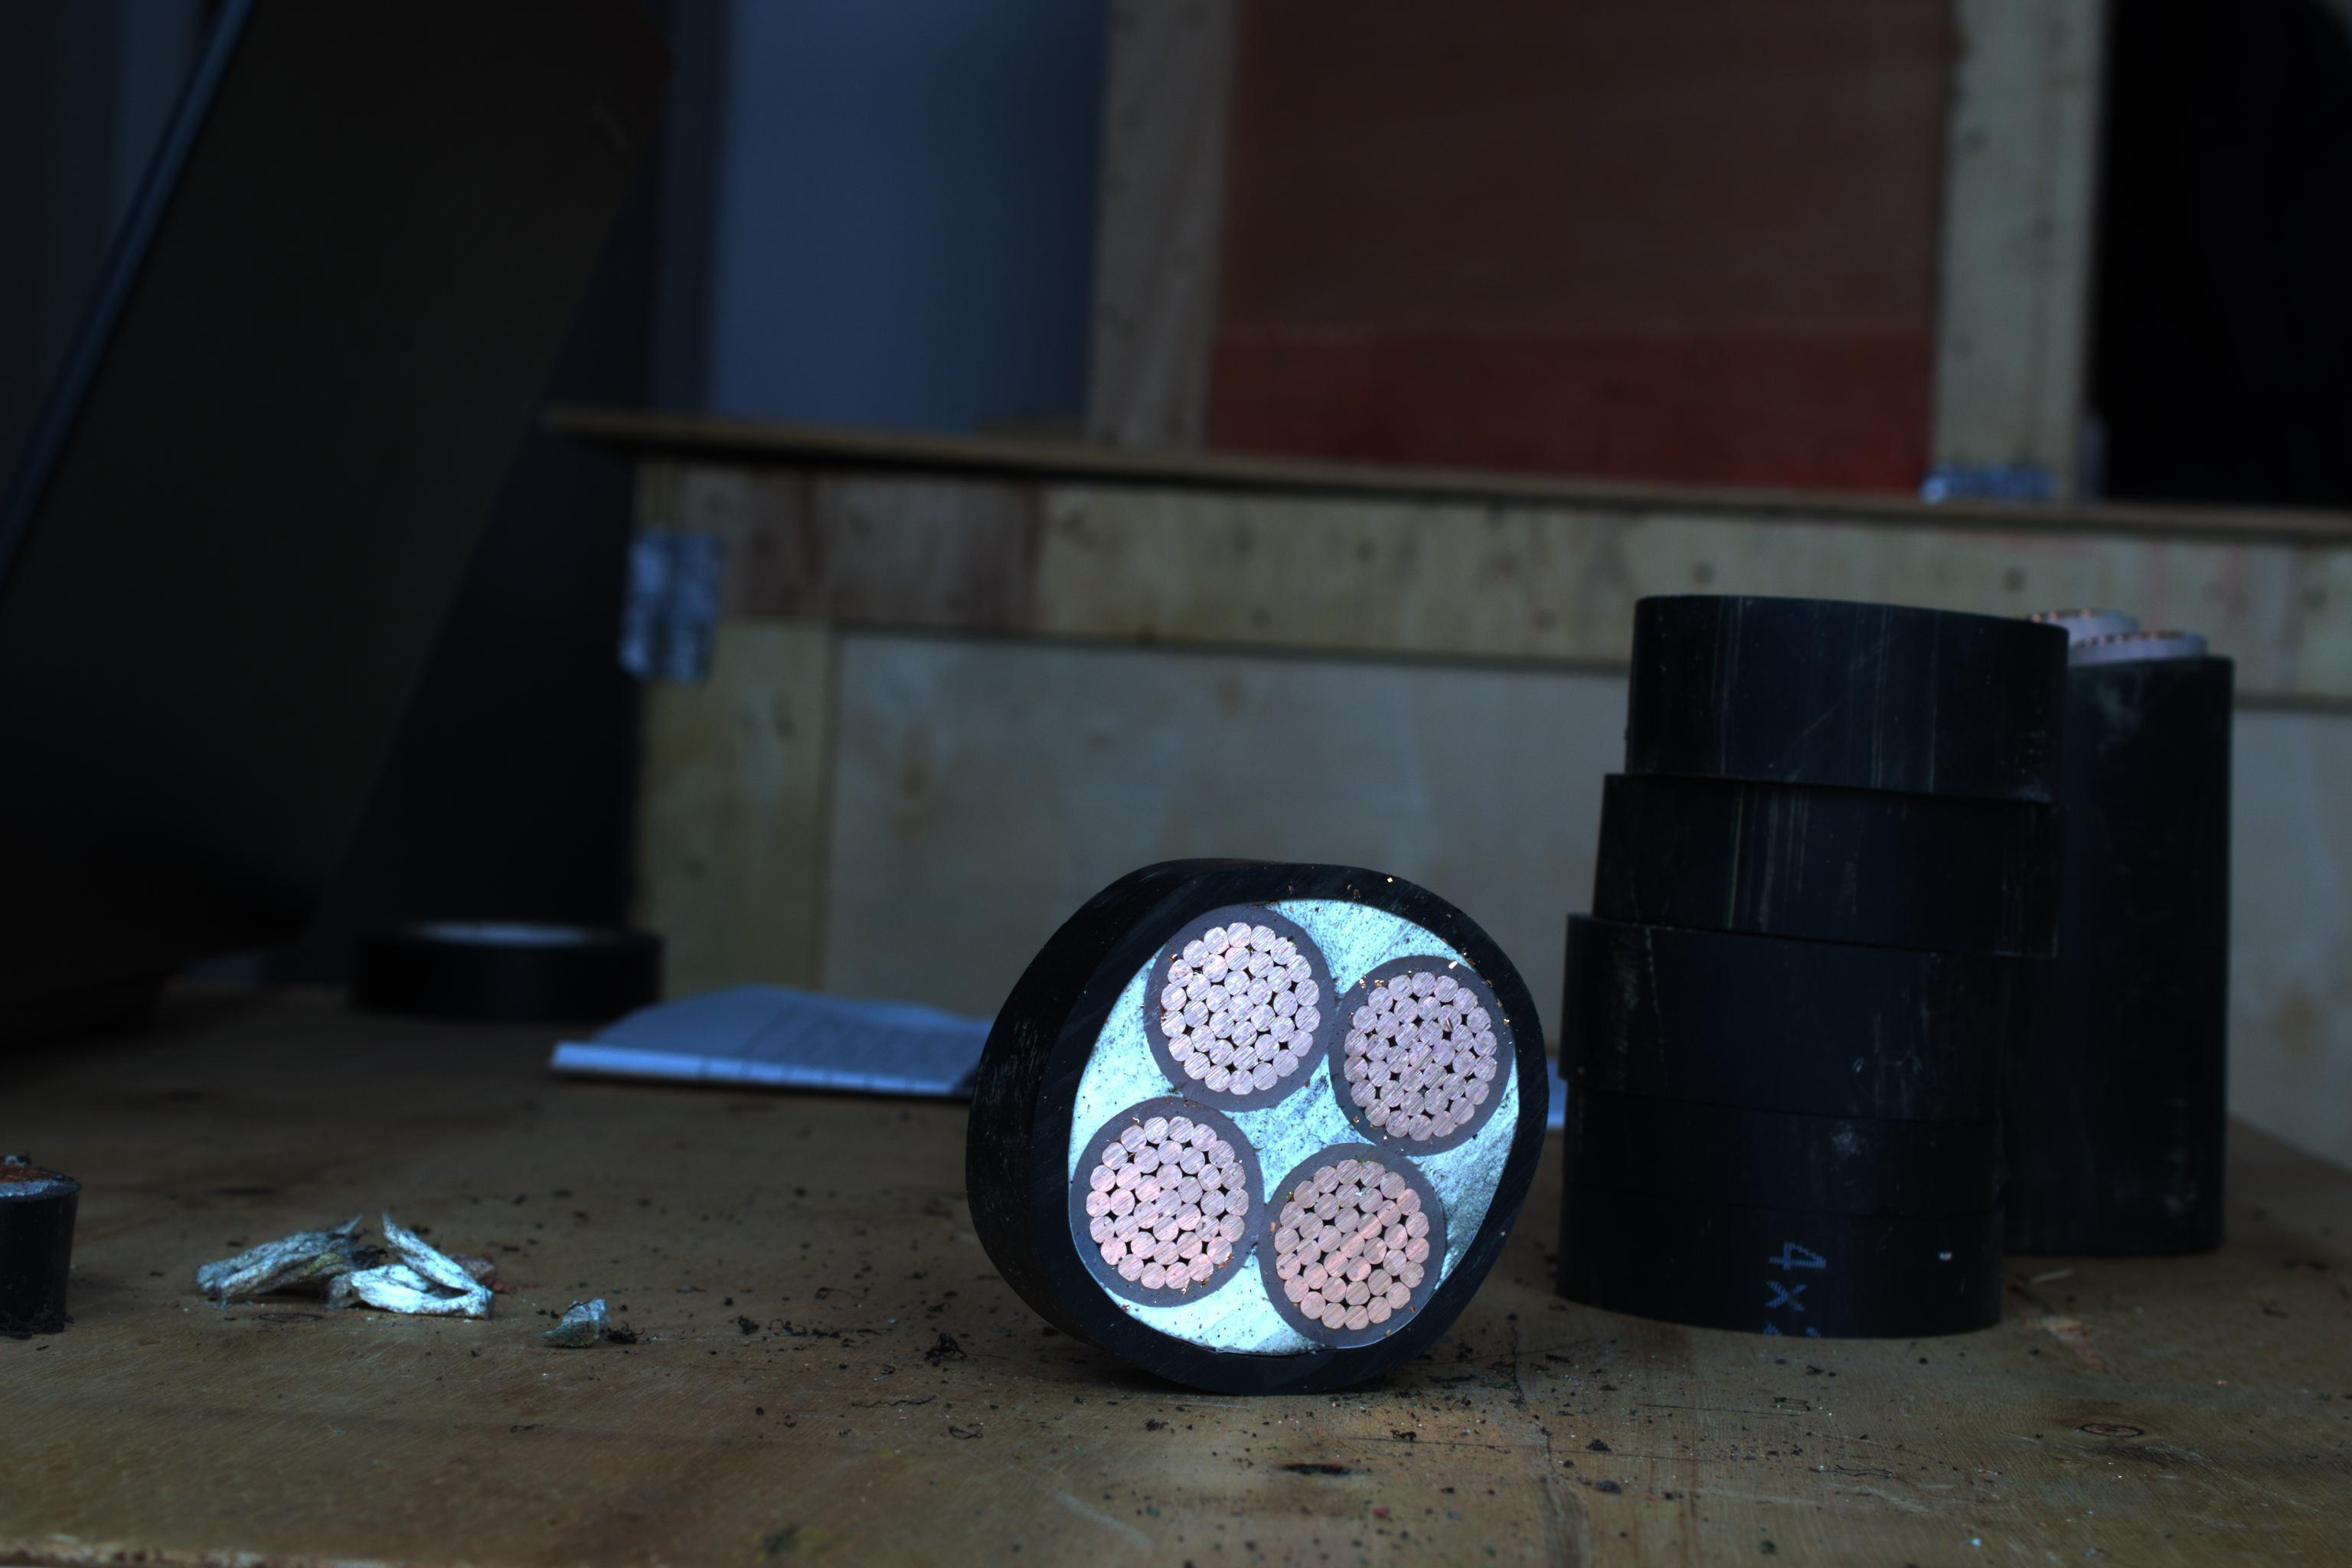YJV_0.6_1kV_4x240: (1060, 868, 1550, 1386)
